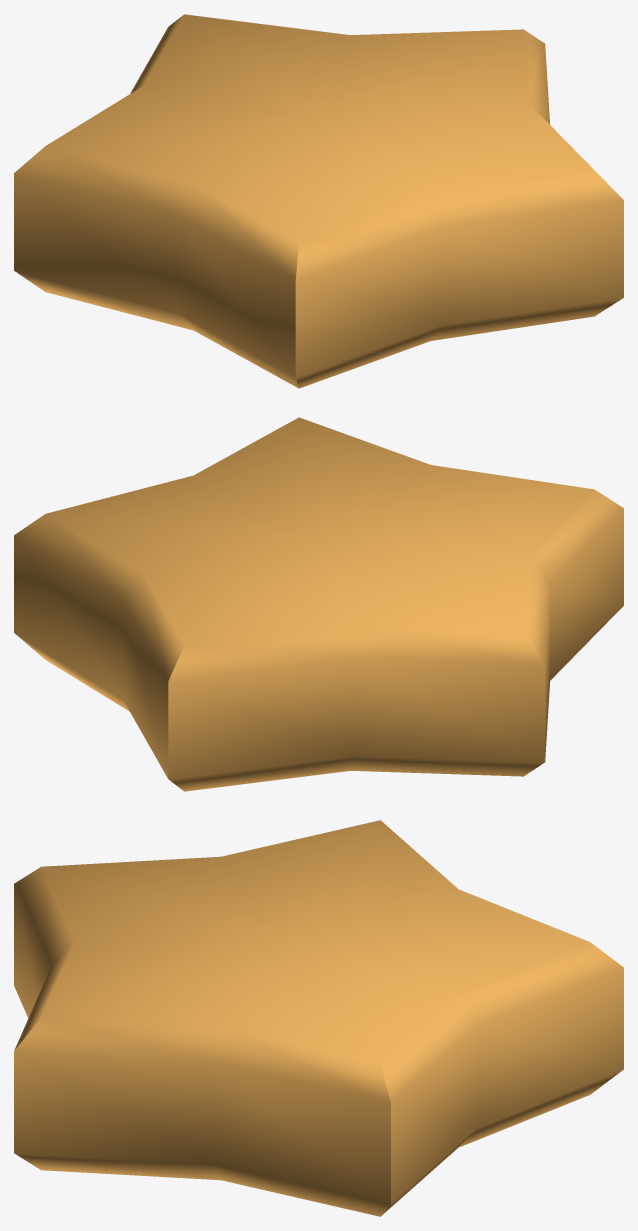
The model's file is Star_5P_03.fbx.
The picture shows the model from 3 angles, top to bottom: view 1: azimuth 30°, elevation 25°; view 2: azimuth 150°, elevation 25°; view 3: azimuth 270°, elevation 25°; orthographic projection. The views are drawn at different scales.
Parts seen in each view (by area): view 1: Star_5P_03; view 2: Star_5P_03; view 3: Star_5P_03.
Part boxes in pixels (x1,y1,x2,y2): Star_5P_03: (14,14,623,388); Star_5P_03: (14,417,623,791); Star_5P_03: (14,820,623,1216).
Size of the model in its own units: 380 by 100 by 362.
